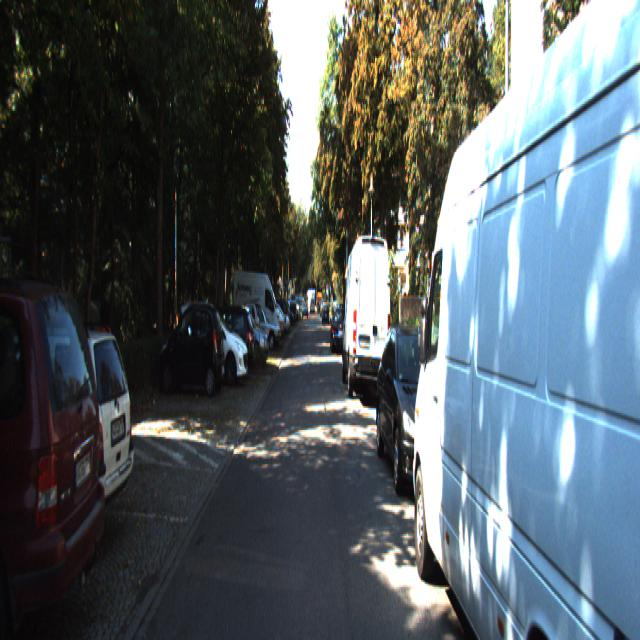Car: (408, 0, 639, 639), (0, 249, 112, 639), (0, 307, 137, 558), (375, 320, 461, 513), (342, 231, 392, 400), (178, 294, 249, 388), (158, 303, 226, 400), (232, 265, 284, 348), (331, 306, 348, 352)
